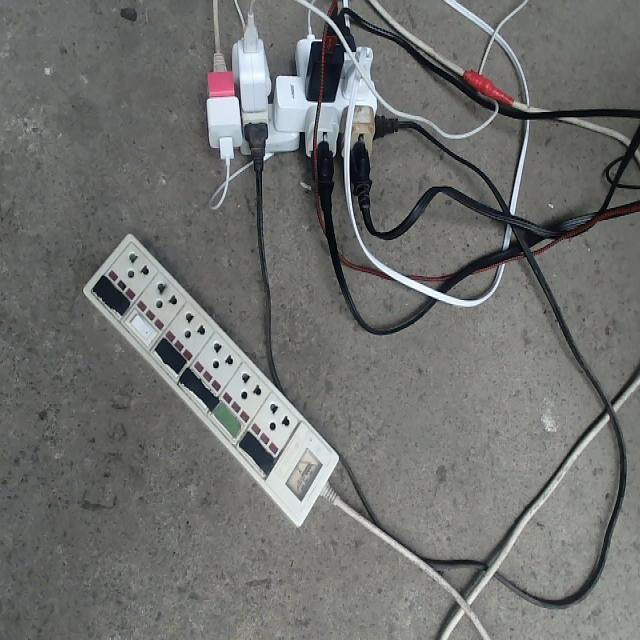-: (206, 12, 396, 216)
